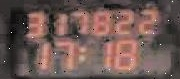1: (34, 40, 49, 70), (52, 10, 67, 35), (100, 40, 112, 67)
2: (135, 8, 157, 34), (112, 9, 132, 35)
3: (24, 10, 44, 36)
7: (50, 39, 74, 69), (68, 9, 87, 34)
8: (112, 37, 135, 70), (89, 10, 110, 35)
X: (75, 43, 85, 63)
